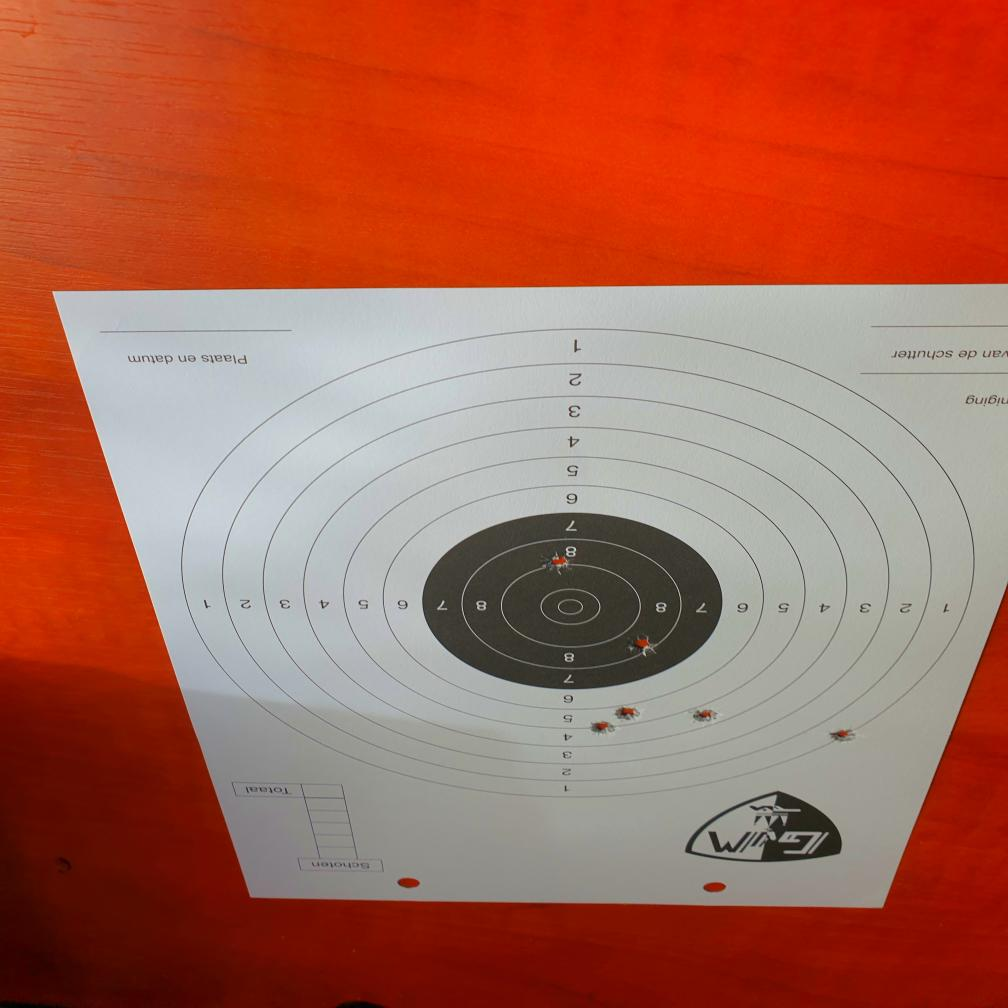1: (828, 728, 859, 745)
4: (690, 708, 719, 728)
5: (586, 720, 620, 739), (616, 704, 645, 725)
8: (624, 634, 659, 658)
9: (539, 550, 577, 575)
Target: (179, 326, 974, 800)
black_contour: (421, 512, 722, 690)
